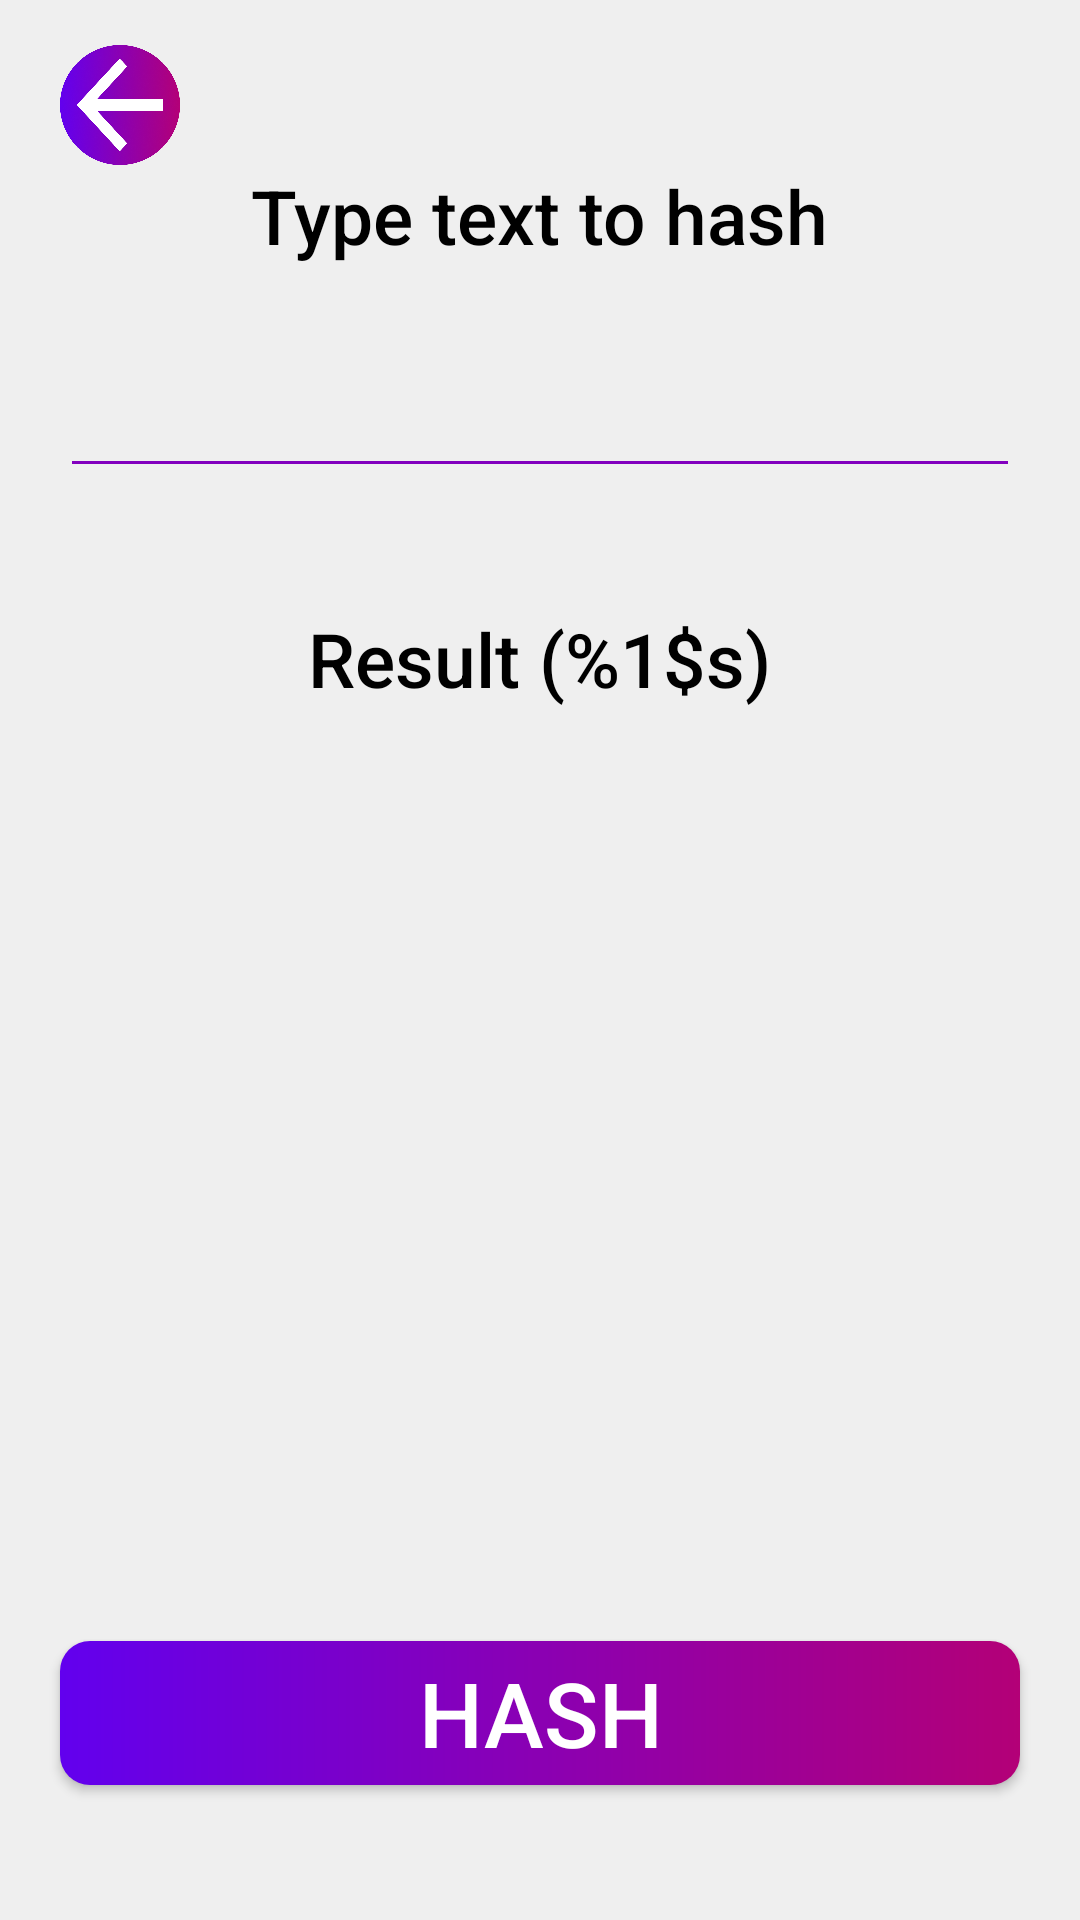

Screen size 1080px x 1920px. Icon name, then its center in pixels as (x,y):
back: (120,105)
